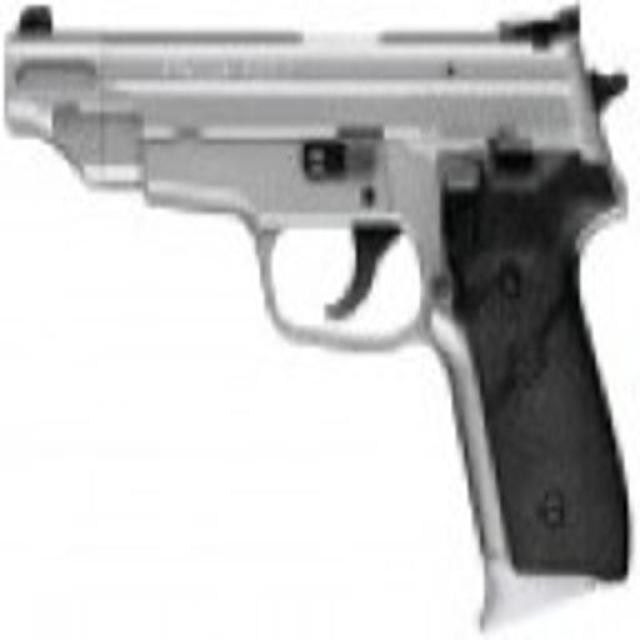pistol: (11, 5, 631, 624)
